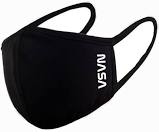cloth_mask: (1, 2, 159, 132)
